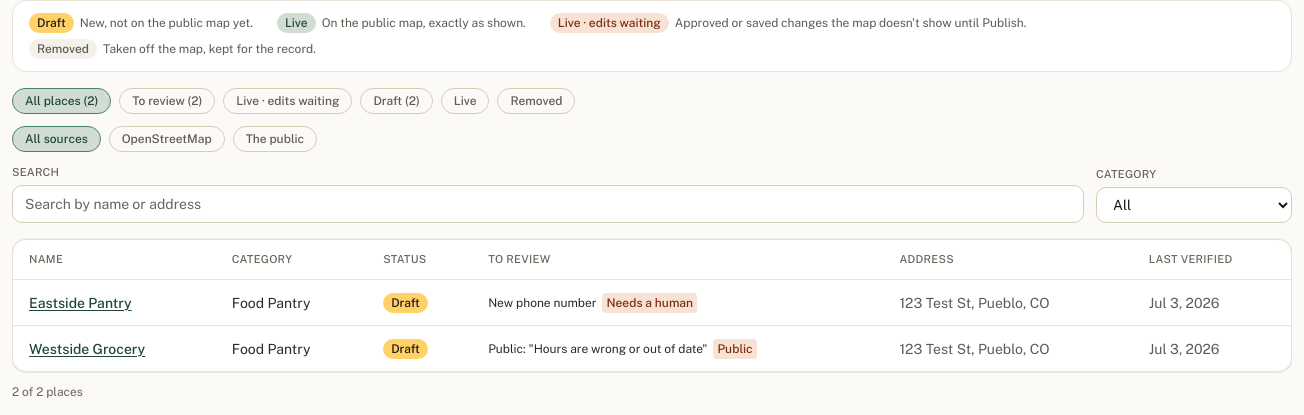
Test: VenueListView — source filter gains 'The public' (#675) › filtering by 'The public' shows only rows with a pending submission
The width and height of the screenshot is (1304, 415).
Click the button "The public": (275,139) [233,126,317,152]
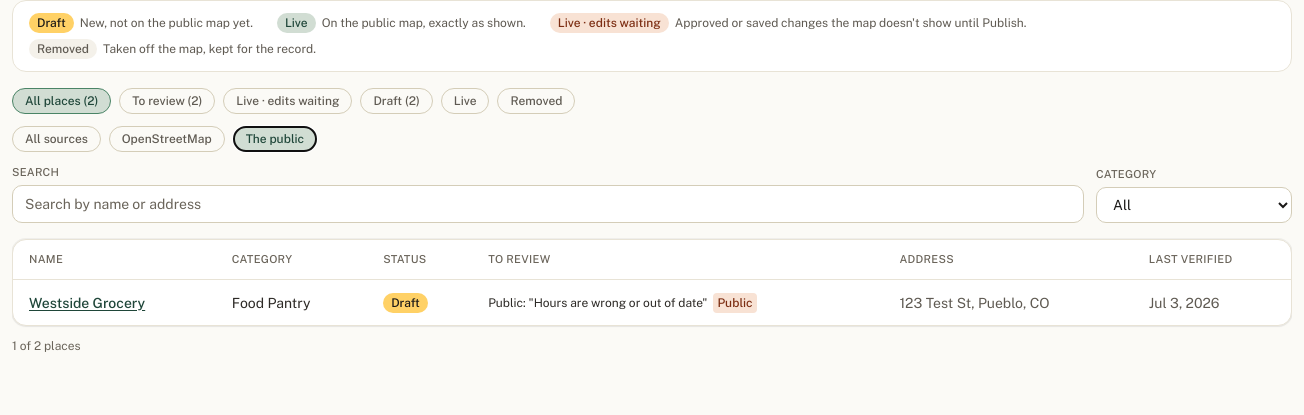
Expected: the link "Westside Grocery" is shown, [29,295,145,311]
Now the link "Eastside Pantry" is gone
